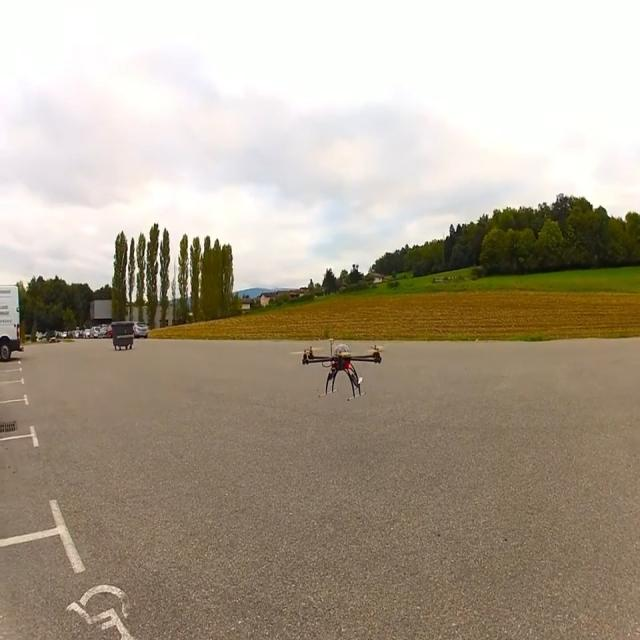drone: (302, 338, 384, 400)
